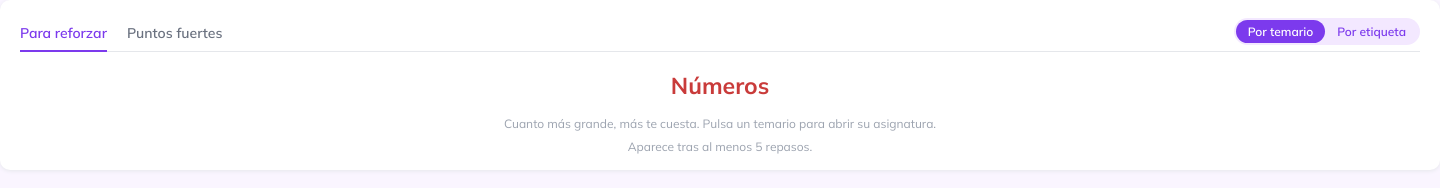
Scenario: MasteryClouds › agrupación por etiqueta › conserva la pestaña elegida al cambiar de agrupación
Click the tab "Puntos fuertes" at (175, 34), box [127,16,222,52]
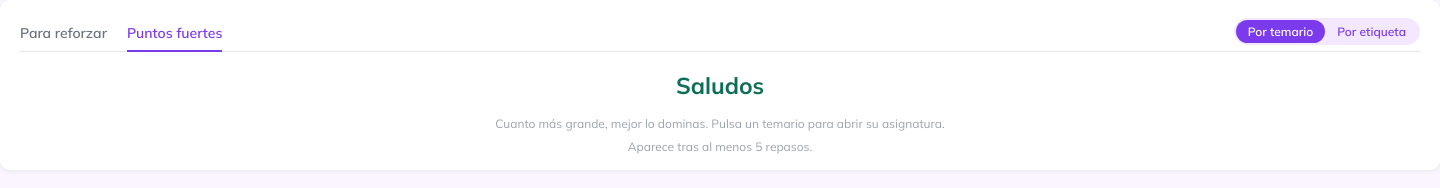
Click the button "Por etiqueta" at (1372, 32), box [1325,20,1418,43]
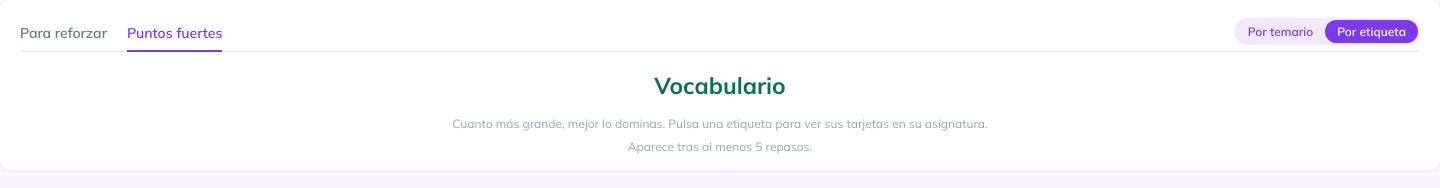
Result: the button "Vocabulario" is shown at [654,72,786,100]
